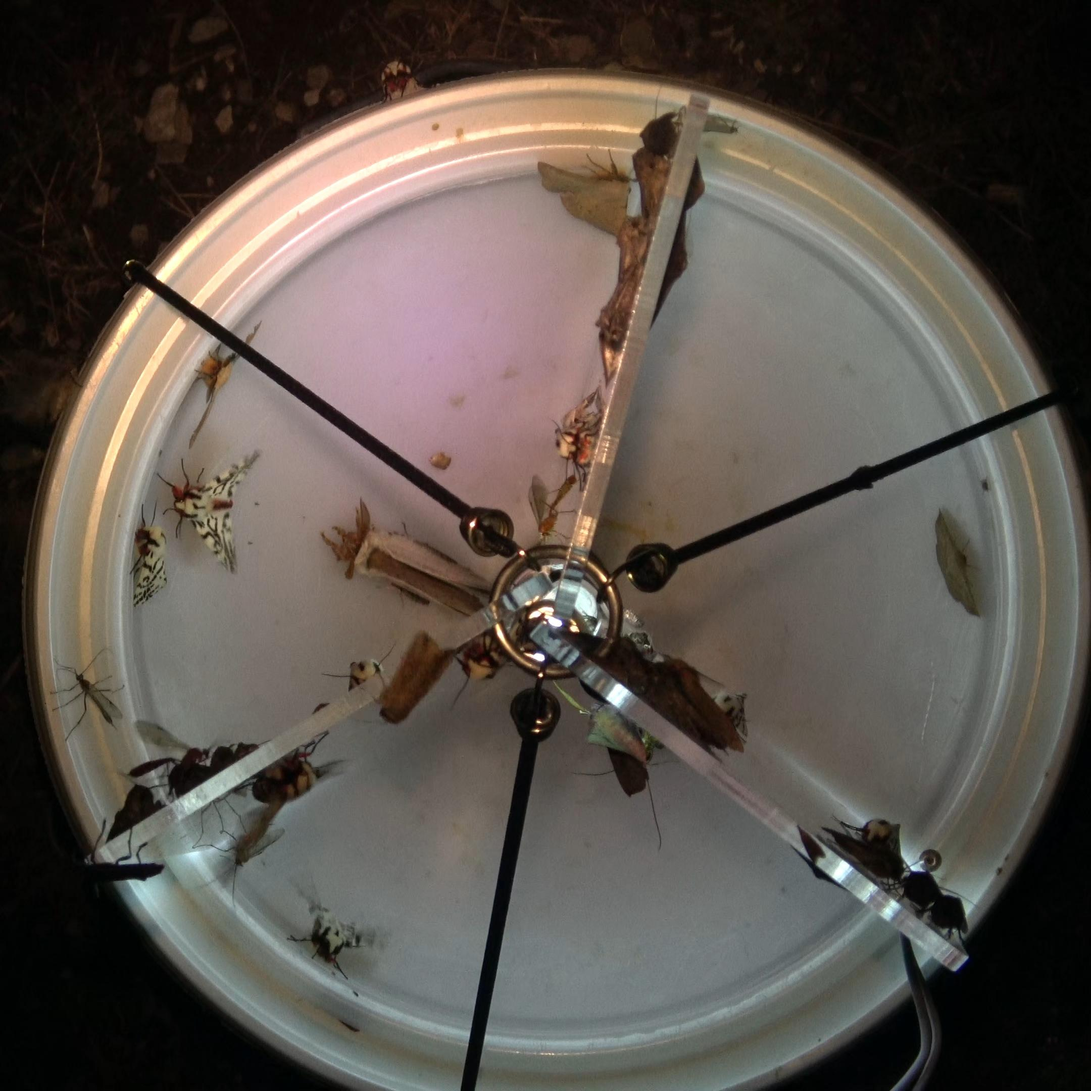bogong: (662, 650, 746, 754), (820, 823, 911, 893), (650, 668, 712, 754), (882, 864, 978, 912), (107, 770, 167, 842), (628, 145, 675, 225), (638, 90, 687, 159), (610, 212, 660, 278), (916, 888, 970, 948), (605, 636, 651, 700), (161, 755, 215, 801), (233, 733, 273, 758), (209, 740, 236, 777)
coleoptera: (78, 825, 165, 900)
hymenoptera: (192, 796, 287, 908), (45, 644, 126, 745), (526, 472, 581, 546), (137, 719, 212, 754), (126, 755, 180, 778)
moth_na: (317, 494, 496, 617), (555, 680, 663, 851), (154, 447, 263, 576), (185, 317, 266, 453), (536, 144, 634, 240), (286, 878, 376, 982), (246, 730, 348, 803), (932, 506, 983, 618), (586, 263, 653, 347), (651, 209, 692, 327), (127, 501, 170, 609), (452, 632, 512, 706), (320, 640, 394, 692), (552, 426, 603, 492), (830, 812, 902, 855), (377, 52, 428, 106), (556, 385, 612, 426), (589, 335, 626, 389), (713, 689, 750, 736), (684, 155, 708, 215), (793, 823, 827, 863), (700, 115, 743, 140), (575, 678, 611, 707), (613, 629, 656, 650), (617, 607, 649, 630), (891, 819, 908, 857), (428, 448, 452, 472)
objects: (789, 843, 850, 895), (849, 460, 879, 491), (311, 700, 332, 716), (338, 1019, 360, 1034), (980, 478, 993, 496), (454, 127, 465, 140), (995, 866, 1005, 877), (430, 122, 441, 131), (1003, 852, 1011, 862), (352, 989, 359, 999), (157, 448, 164, 457), (1042, 772, 1051, 778), (253, 501, 260, 507), (246, 540, 253, 546), (117, 513, 122, 519)
prob_bogong: (374, 630, 460, 726), (607, 743, 652, 798)
